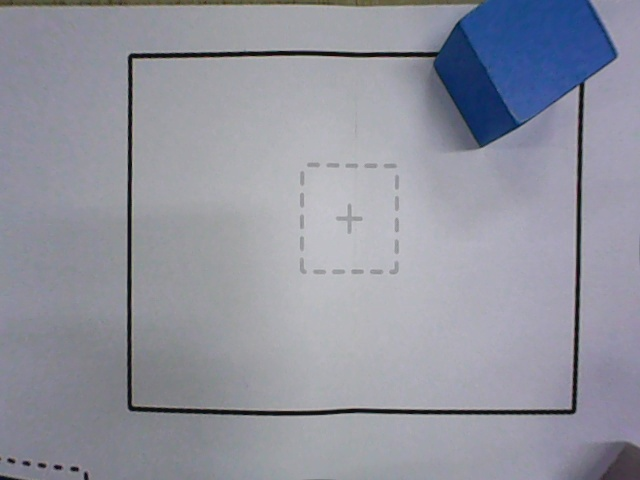upside of big cube: (456, 0, 620, 127)
